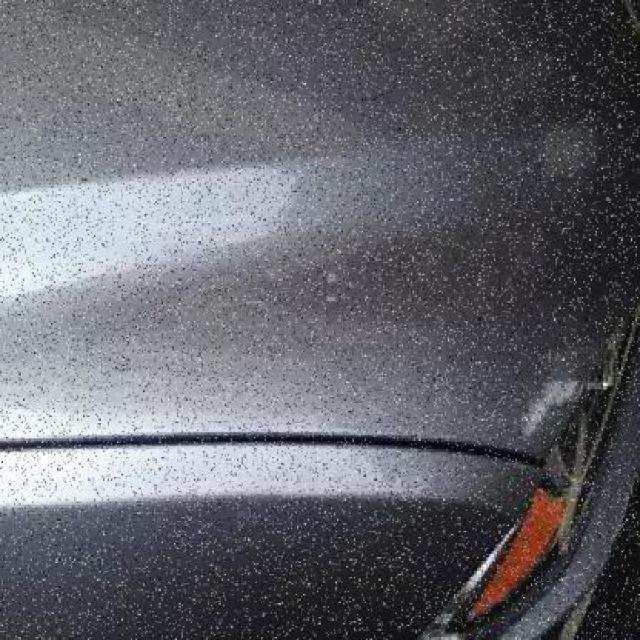bonnet-dent: (0, 0, 597, 529)
